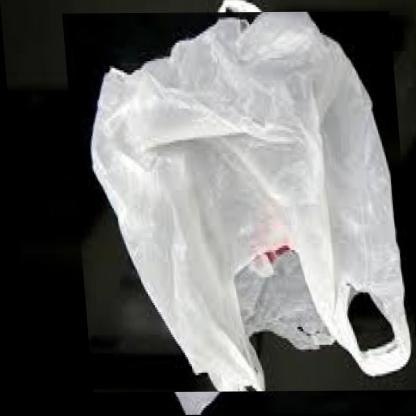trash: (92, 13, 410, 390)
